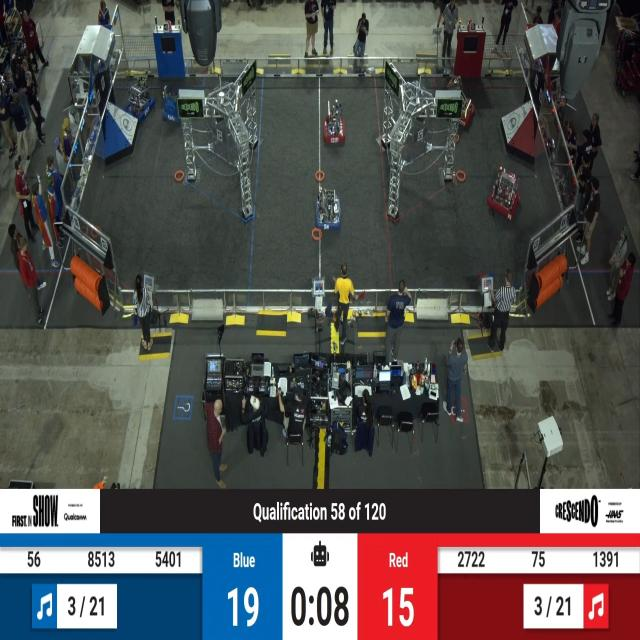Robot: (441, 64, 478, 138), (486, 163, 520, 219), (160, 79, 193, 132), (313, 184, 342, 236), (128, 72, 157, 123), (323, 94, 348, 146)
